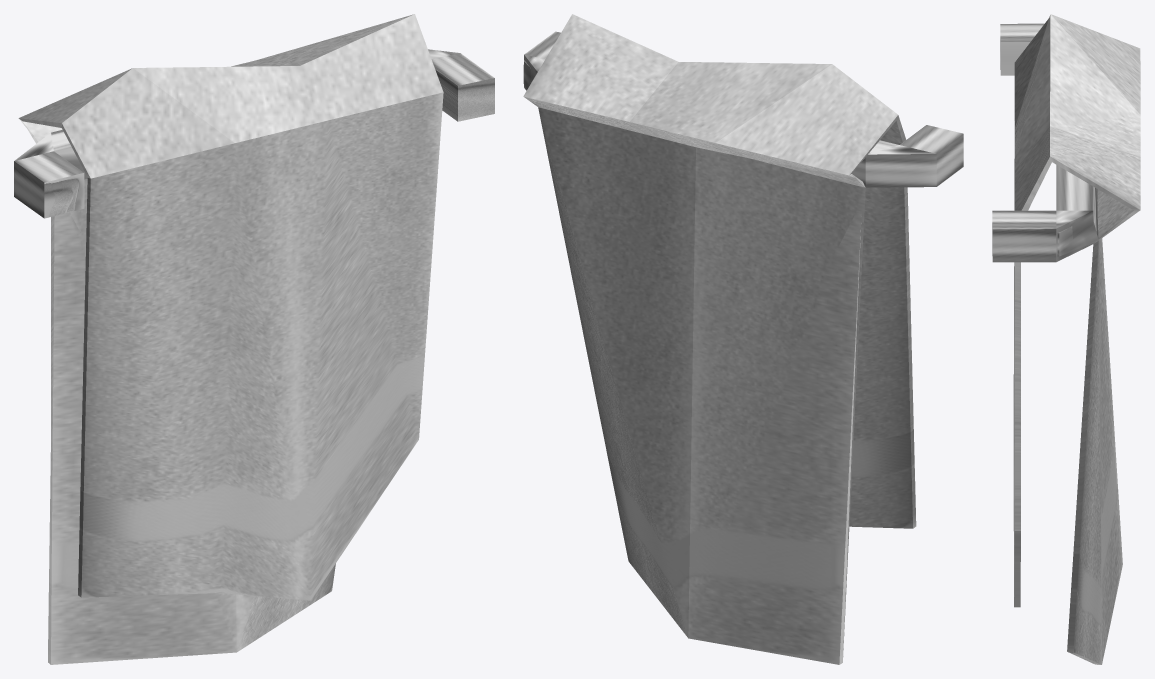
File: Towel.fbx
3 views of the same model, side by side, from view 1: azimuth 30°, elevation 25°; view 2: azimuth 150°, elevation 25°; view 3: azimuth 270°, elevation 25° (orthographic). The views are drawn at different scales.
Visible parts, largest first — view 1: Towel; view 2: Towel; view 3: Towel.
Boxes of the visible parts, bbox=[...] form: Towel: bbox=[14, 14, 494, 664]; Towel: bbox=[523, 14, 963, 664]; Towel: bbox=[992, 14, 1140, 664].
Size of the model in its own units: 74.91 by 101 by 22.99.
